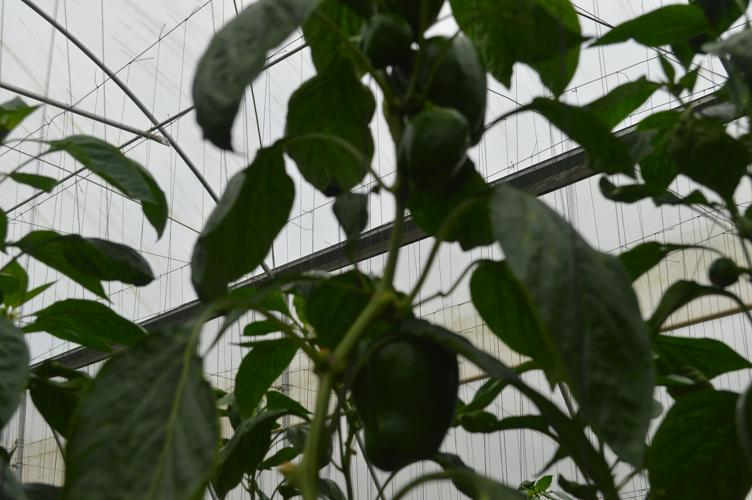BellPepper: (341, 325, 470, 481), (373, 95, 477, 198)
